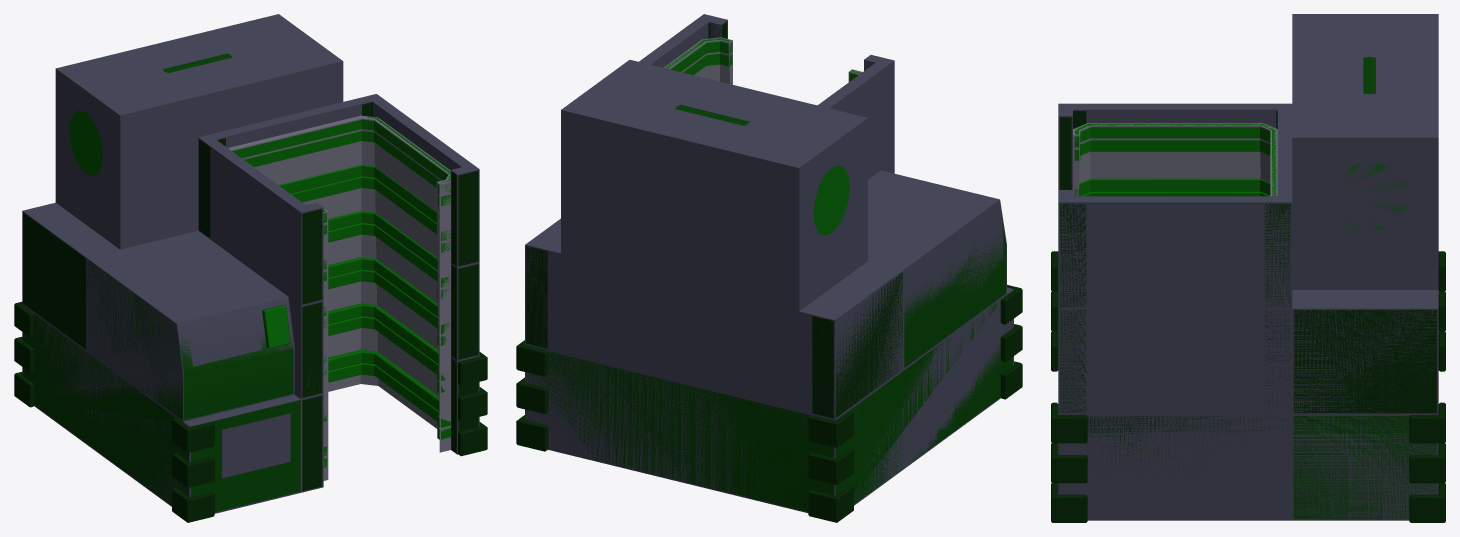
File: Recom.fbx
3 views of the same model, side by side, from view 1: azimuth 30°, elevation 25°; view 2: azimuth 150°, elevation 25°; view 3: azimuth 270°, elevation 25° (orthographic). The views are drawn at different scales.
Parts seen in each view (by area): view 1: Plane.453, Plane.572, Circle.136; view 2: Plane.453, Plane.572, Circle.136; view 3: Plane.453, Plane.572, Circle.136.
Boxes of the visible parts, box(x1,y1,x2,y2) form: Plane.453: box(22, 14, 479, 513); Plane.572: box(14, 102, 487, 522); Circle.136: box(69, 53, 232, 175); Plane.453: box(525, 14, 1013, 512); Plane.572: box(516, 22, 1022, 522); Circle.136: box(675, 105, 849, 235); Plane.453: box(1058, 14, 1438, 520); Plane.572: box(1051, 110, 1445, 522); Circle.136: box(1332, 56, 1405, 230).
Size of the model in its own units: 2.7 by 2.76 by 2.7.
